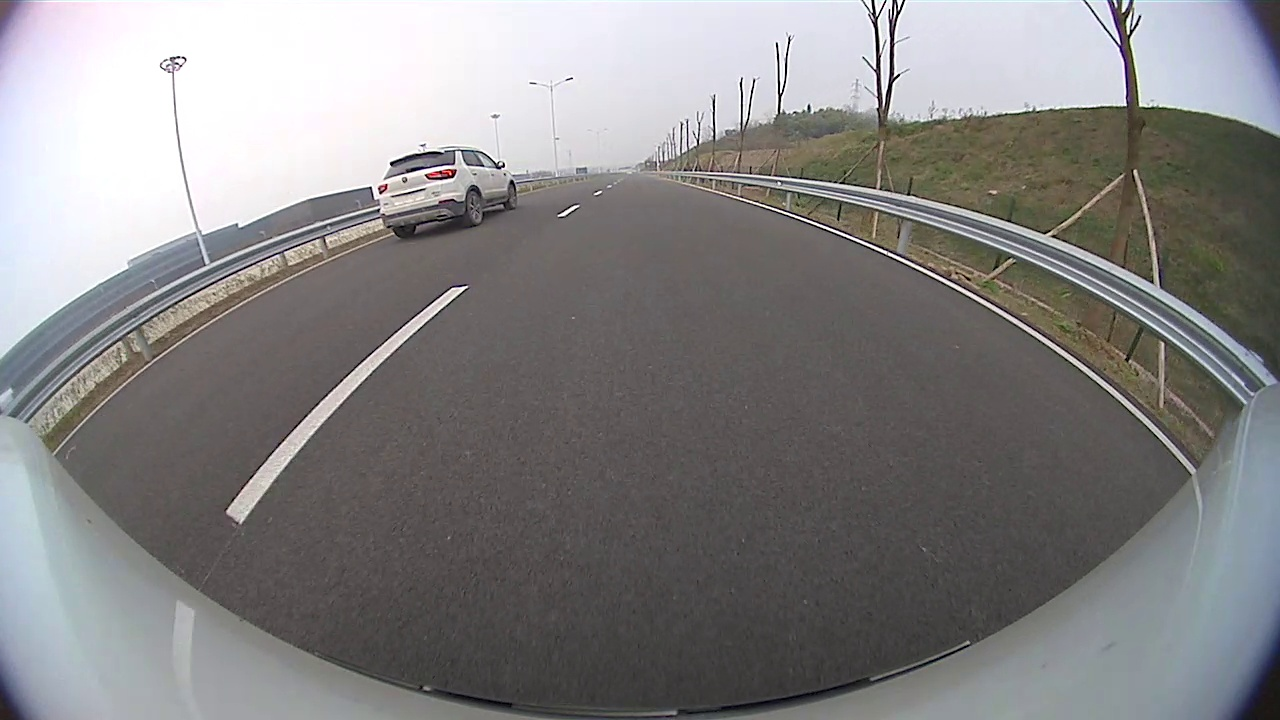car: (374, 144, 520, 241)
front: (507, 185, 518, 209)
rear: (464, 191, 484, 226)
